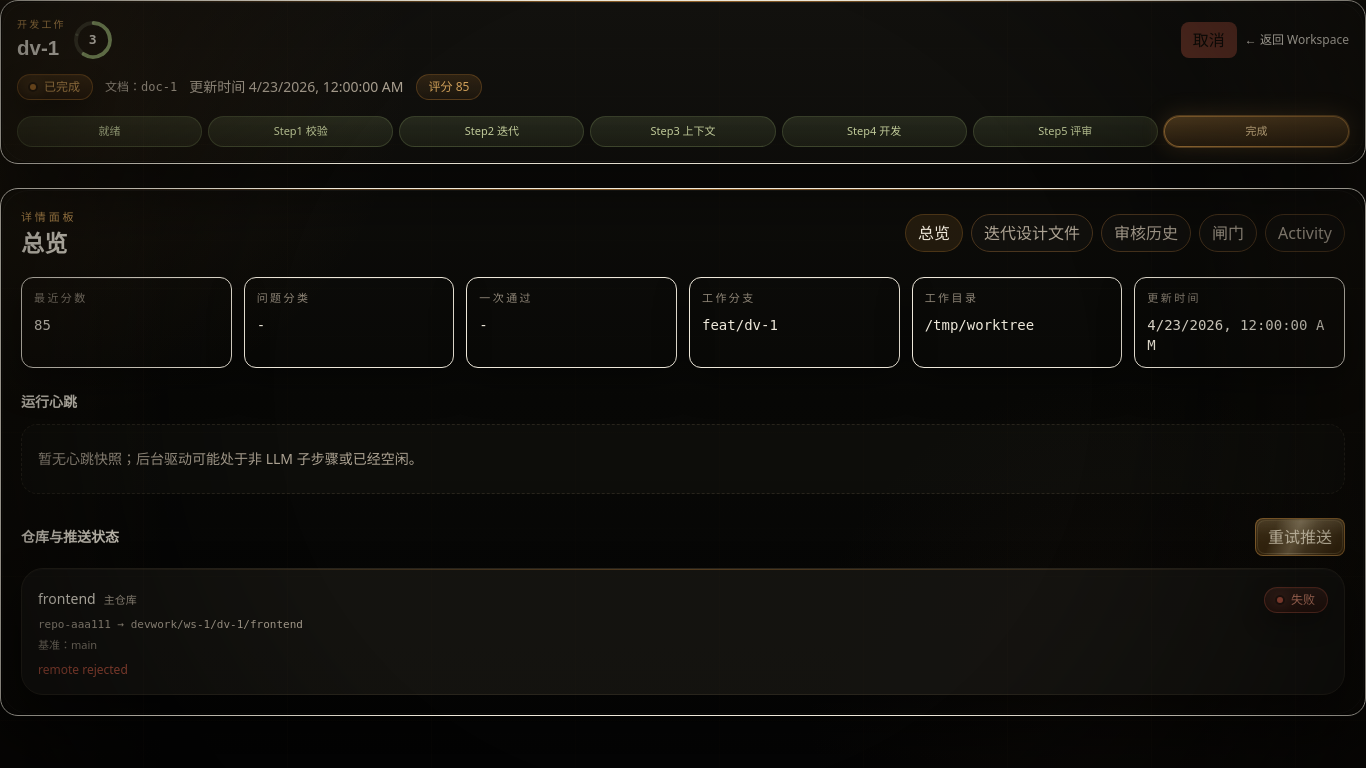
Test: DevWorkPage › renders retry push label and inline error
Click the button "重试推送".
click(1300, 536)  # box x1=1255 y1=518 x2=1345 y2=556
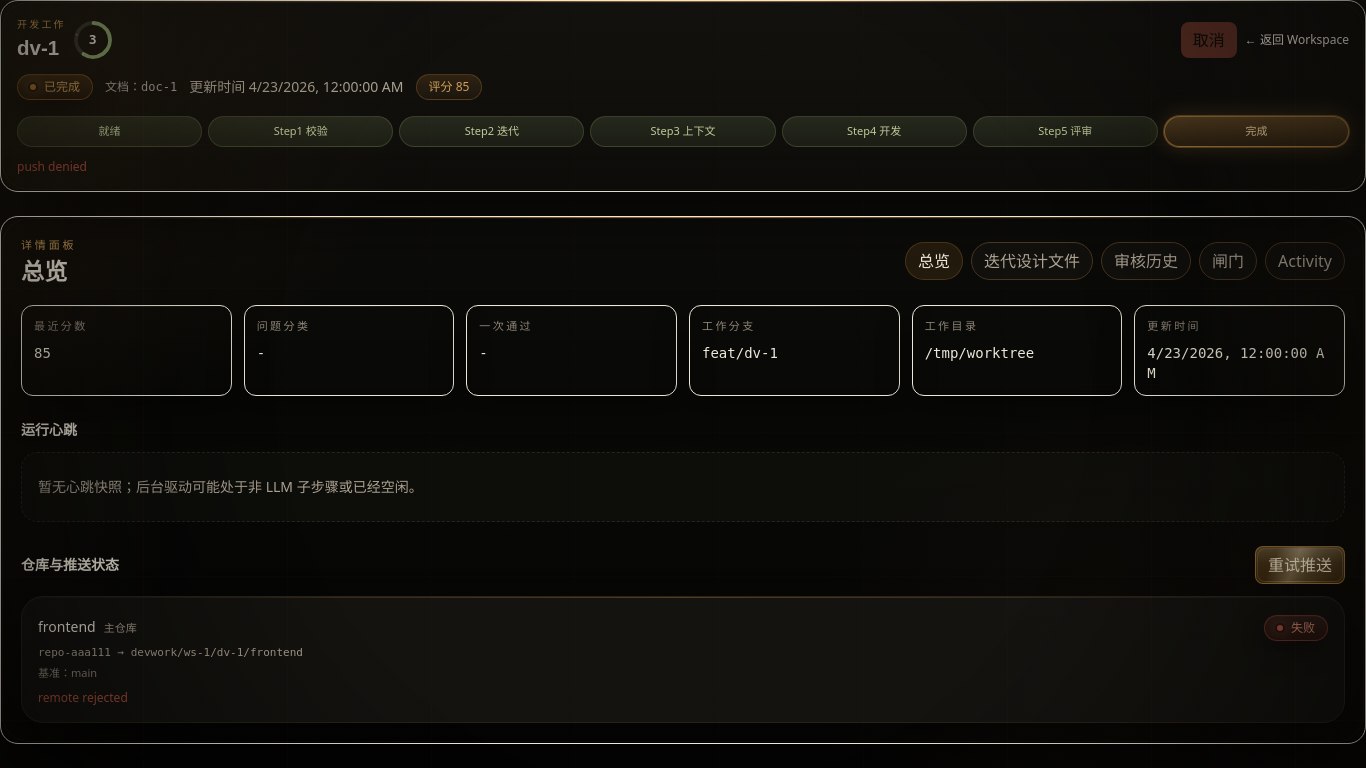
Expected: the text "push denied" is shown, x1=17 y1=158 x2=87 y2=175
